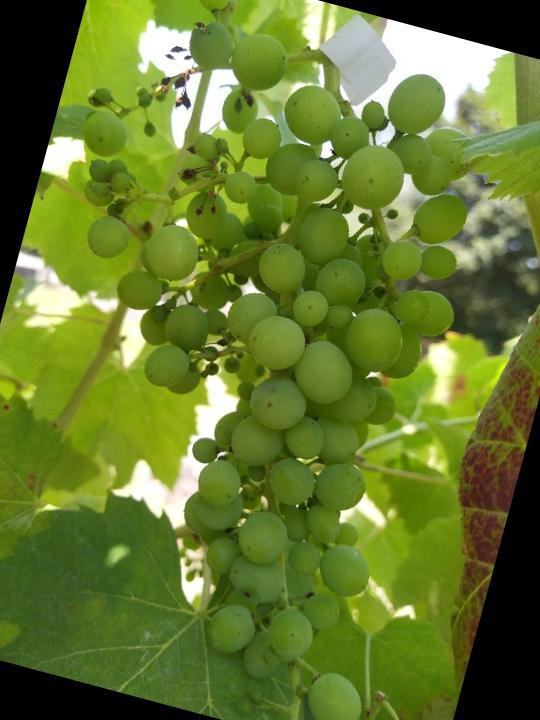grape: (0, 0, 537, 720)
